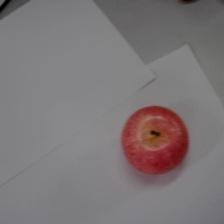red: (120, 103, 190, 175)
